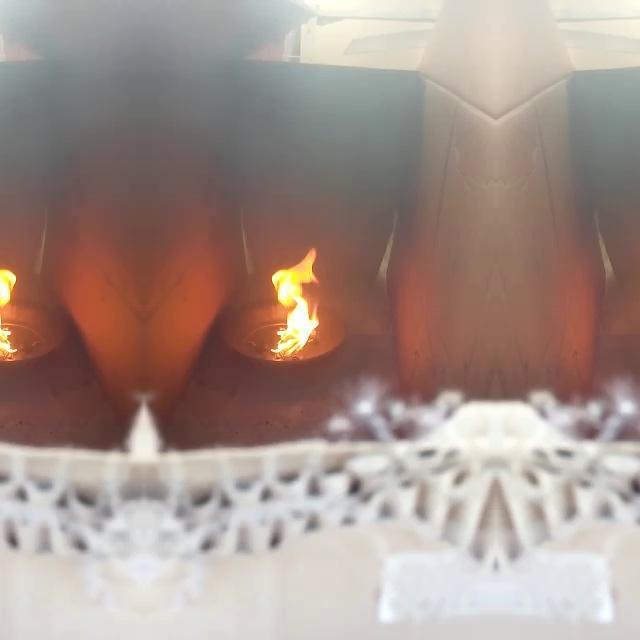smoke: (268, 245, 320, 357), (0, 245, 20, 357)
